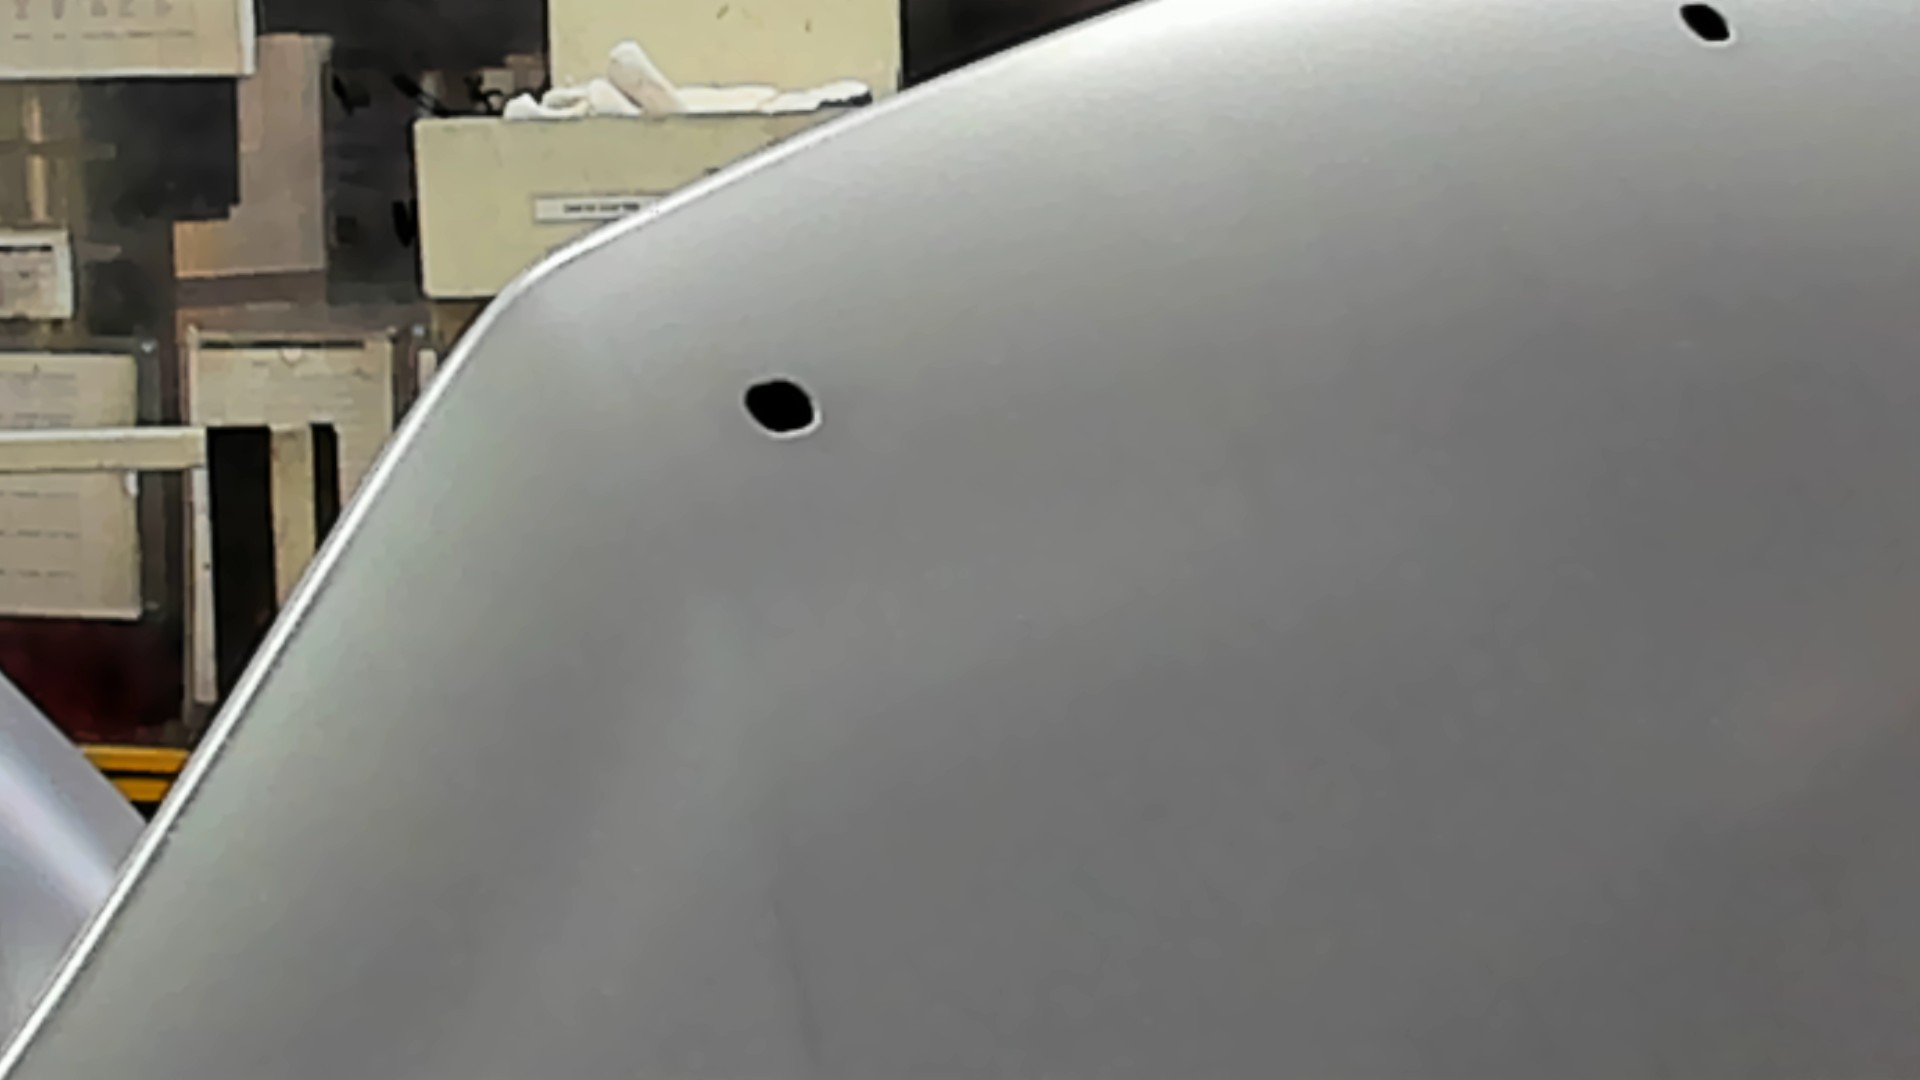amorfo: (738, 375, 824, 440), (1675, 1, 1743, 54)
